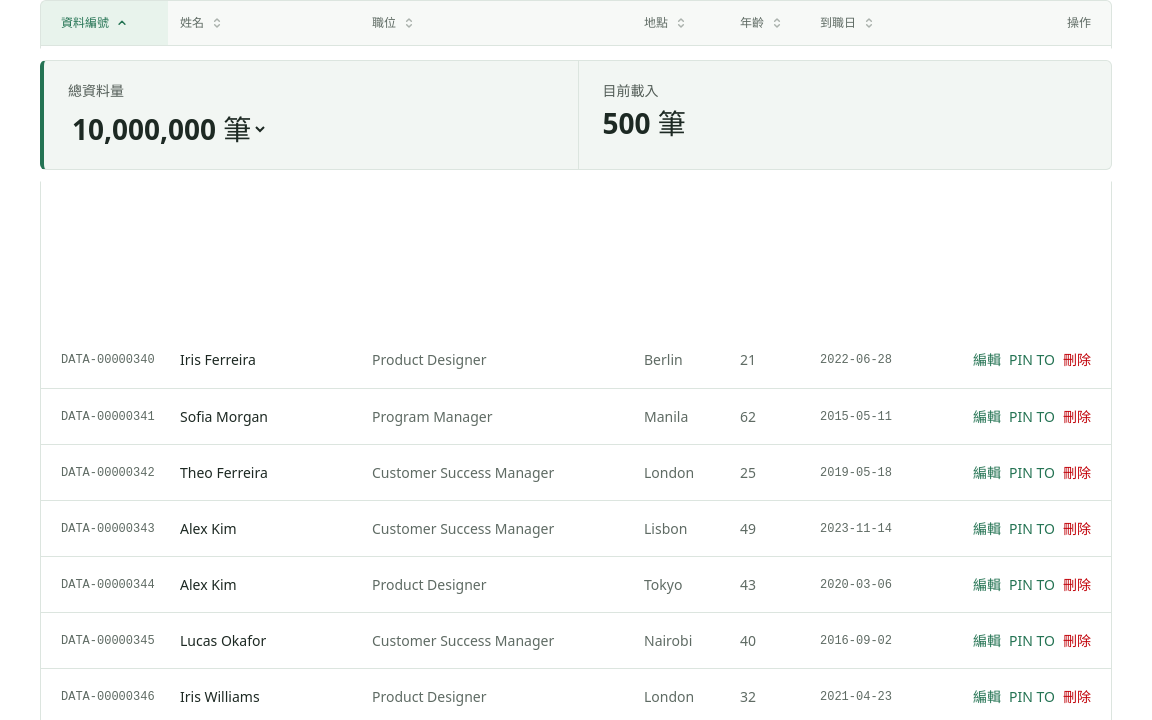
HomeView virtual list › swaps rendered rows while scrolling and keeps row actions bound to their real position
(page scrolled)
What coordinates should you click on to do the following:
click the button "PIN TO" in the row of "DATA-00000340"
I would click on:
 (1032, 360)
Its box is [1009,350,1055,370].
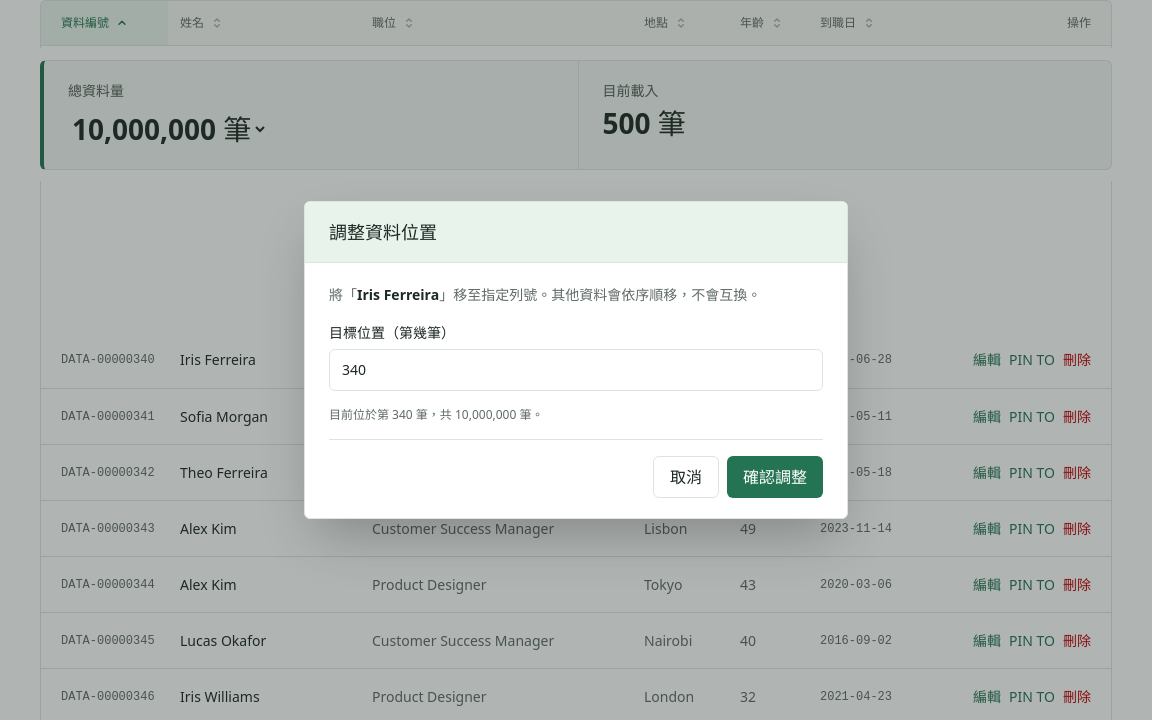
Check: the dialog shows "目前位於第 340 筆", box [329,406,543,423]
